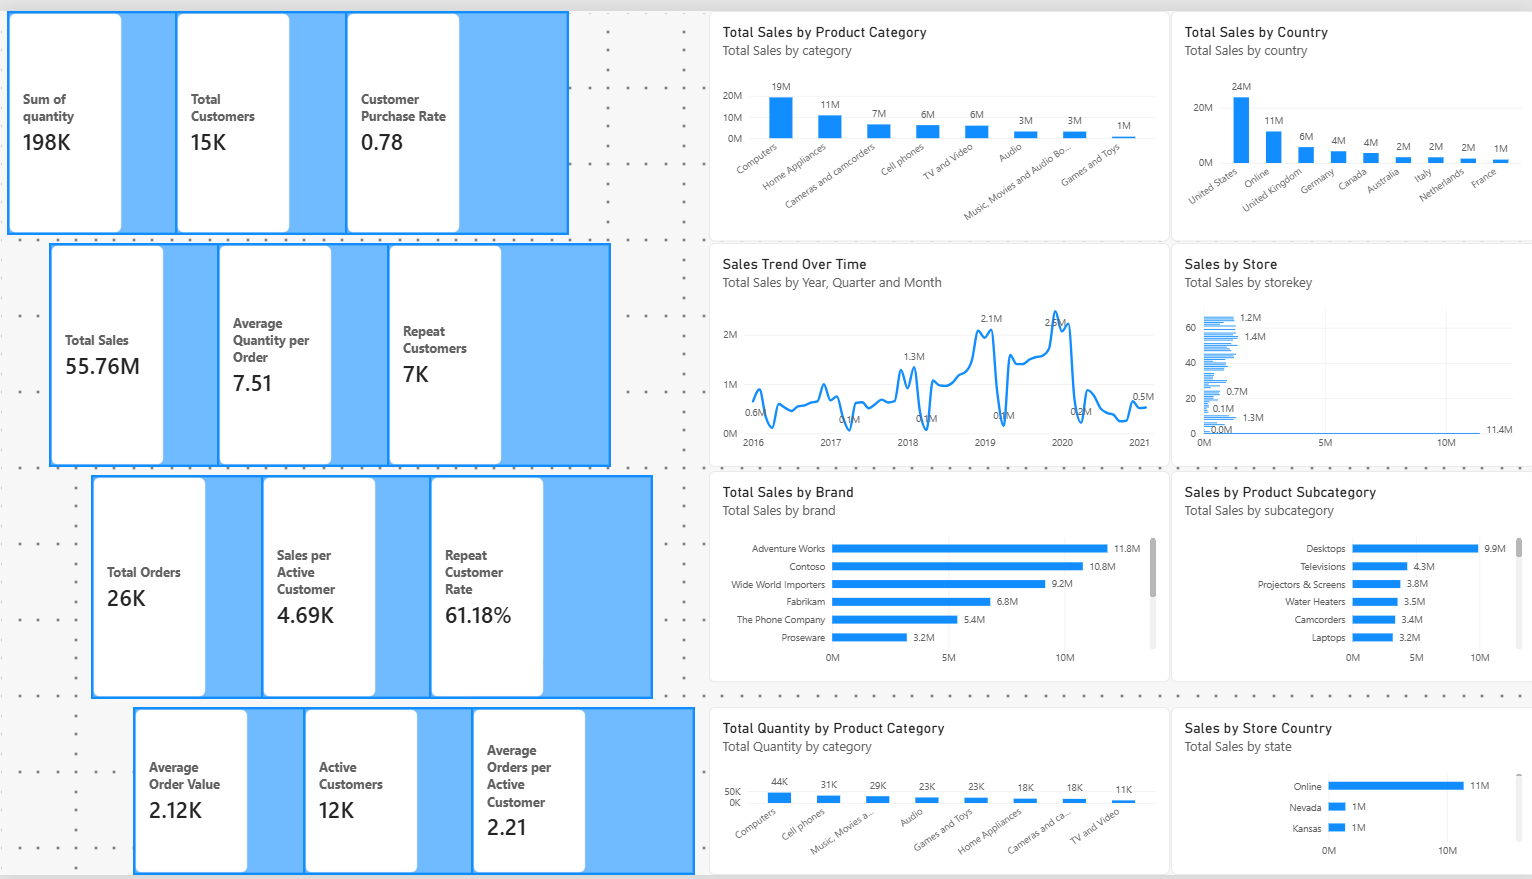

This screenshot's page, from the dashboard's own definition file:
{"tool":"powerbi","page":{"name":"Page 1 Executive Sales Overview","canvas":[1920,1080],"ordinal":0},"visuals":[{"type":"cardVisual","fields":{"Data":["Sum(public sales.quantity)"]},"box":[10,0,280,280],"z":0},{"type":"cardVisual","fields":{"Data":["public customers.Total Sales"]},"box":[62.7,290,280,280],"z":1000},{"type":"cardVisual","fields":{"Data":["public sales.Total Orders"]},"box":[115.5,580,280,280],"z":2000},{"type":"cardVisual","fields":{"Data":["public sales.Average Order Value"]},"box":[168.2,870,280,210],"z":3000},{"type":"cardVisual","fields":{"Data":["public customers.Total Customers"]},"box":[220.9,0,280,280],"z":4000},{"type":"cardVisual","fields":{"Data":["public sales.Average Quantity per Order"]},"box":[273.6,290,280,280],"z":5000},{"type":"cardVisual","fields":{"Data":["public sales.Sales per Active Customer"]},"box":[326.4,580,280,280],"z":6000},{"type":"cardVisual","fields":{"Data":["public sales.Active Customers"]},"box":[379.1,870,280,210],"z":7000},{"type":"cardVisual","fields":{"Data":["public sales.Customer Purchase Rate"]},"box":[431.8,0,280,280],"z":8000},{"type":"cardVisual","fields":{"Data":["public sales.Repeat Customers"]},"box":[484.5,290,280,280],"z":9000},{"type":"cardVisual","fields":{"Data":["public sales.Repeat Customer Rate"]},"box":[537.3,580,280,280],"z":10000},{"type":"cardVisual","fields":{"Data":["public sales.Average Orders per Active Customer"]},"box":[590,870,280,210],"z":11000},{"type":"clusteredColumnChart","title":"Total Sales by Product Category","fields":{"Category":["public products.category"],"Y":["public customers.Total Sales"]},"box":[888,0,576,288],"z":12000},{"type":"clusteredColumnChart","title":"Total Sales by Country","fields":{"Category":["public stores.country"],"Y":["public customers.Total Sales"]},"box":[1464,0,456,288],"z":13000},{"type":"lineChart","title":"Sales Trend Over Time","fields":{"Category":["public sales.orderdate.Variation.Date Hierarchy.Year","public sales.orderdate.Variation.Date Hierarchy.Quarter","public sales.orderdate.Variation.Date Hierarchy.Month"],"Y":["public customers.Total Sales"]},"box":[888,290,576,280],"z":14000},{"type":"clusteredBarChart","title":"Total Sales by Brand","fields":{"Category":["public products.brand"],"Y":["public customers.Total Sales"]},"box":[888,576,576,264],"z":15000},{"type":"clusteredBarChart","title":"Sales by Store","fields":{"Category":["public stores.storekey"],"Y":["public customers.Total Sales"]},"box":[1464,290,456,280],"z":16000},{"type":"clusteredBarChart","title":"Sales by Product Subcategory","fields":{"Category":["public products.subcategory"],"Y":["public customers.Total Sales"]},"box":[1464,576,456,264],"z":17000},{"type":"clusteredColumnChart","title":"Total Quantity by Product Category","fields":{"Category":["public products.category"],"Y":["public sales.Total Quantity"]},"box":[888,870,576,210],"z":18000},{"type":"clusteredBarChart","title":"Sales by Store Country","fields":{"Category":["public stores.state"],"Y":["public customers.Total Sales"]},"box":[1464,870,456,210],"z":19000}]}

Visuals, with their boxes in screenshot pixels (x1, y1, x2, y2), scaled from the page's 1920x1080 canvas onto the 1532x879 screenshot:
cardVisual - Sum(public sales.quantity): pyautogui.locateOnScreen(8, 0, 231, 228)
cardVisual - public customers.Total Sales: pyautogui.locateOnScreen(50, 236, 273, 464)
cardVisual - public sales.Total Orders: pyautogui.locateOnScreen(92, 472, 316, 700)
cardVisual - public sales.Average Order Value: pyautogui.locateOnScreen(134, 708, 358, 878)
cardVisual - public customers.Total Customers: pyautogui.locateOnScreen(176, 0, 400, 228)
cardVisual - public sales.Average Quantity per Order: pyautogui.locateOnScreen(218, 236, 442, 464)
cardVisual - public sales.Sales per Active Customer: pyautogui.locateOnScreen(260, 472, 484, 700)
cardVisual - public sales.Active Customers: pyautogui.locateOnScreen(302, 708, 526, 878)
cardVisual - public sales.Customer Purchase Rate: pyautogui.locateOnScreen(345, 0, 568, 228)
cardVisual - public sales.Repeat Customers: pyautogui.locateOnScreen(387, 236, 610, 464)
cardVisual - public sales.Repeat Customer Rate: pyautogui.locateOnScreen(429, 472, 652, 700)
cardVisual - public sales.Average Orders per Active Customer: pyautogui.locateOnScreen(471, 708, 694, 878)
"Total Sales by Product Category" clusteredColumnChart: pyautogui.locateOnScreen(709, 0, 1168, 234)
"Total Sales by Country" clusteredColumnChart: pyautogui.locateOnScreen(1168, 0, 1531, 234)
"Sales Trend Over Time" lineChart: pyautogui.locateOnScreen(709, 236, 1168, 464)
"Total Sales by Brand" clusteredBarChart: pyautogui.locateOnScreen(709, 469, 1168, 684)
"Sales by Store" clusteredBarChart: pyautogui.locateOnScreen(1168, 236, 1531, 464)
"Sales by Product Subcategory" clusteredBarChart: pyautogui.locateOnScreen(1168, 469, 1531, 684)
"Total Quantity by Product Category" clusteredColumnChart: pyautogui.locateOnScreen(709, 708, 1168, 878)
"Sales by Store Country" clusteredBarChart: pyautogui.locateOnScreen(1168, 708, 1531, 878)
